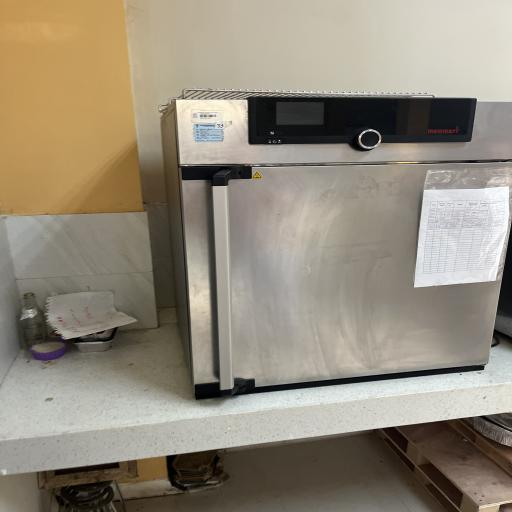Memmert_Unidad2: (147, 76, 512, 434)
